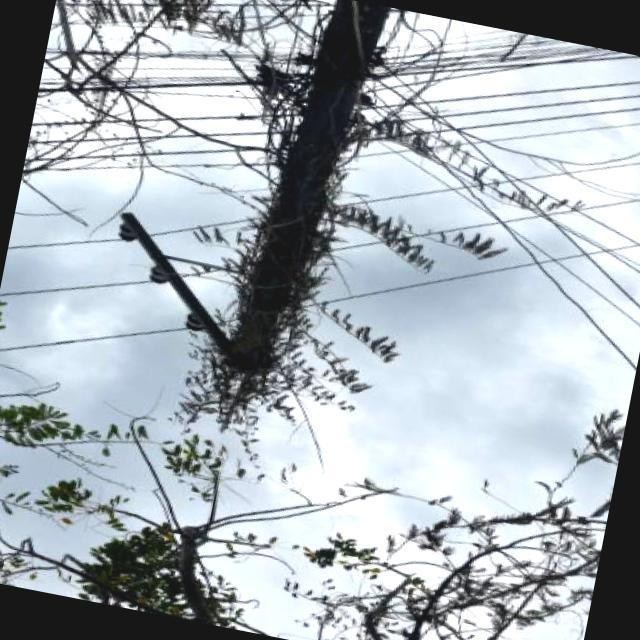critical vegetation: (189, 57, 420, 446)
